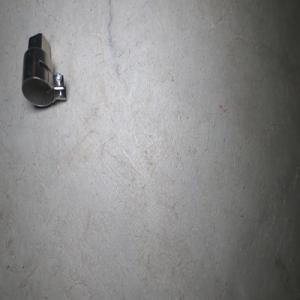MetalPart: (20, 32, 67, 107)
